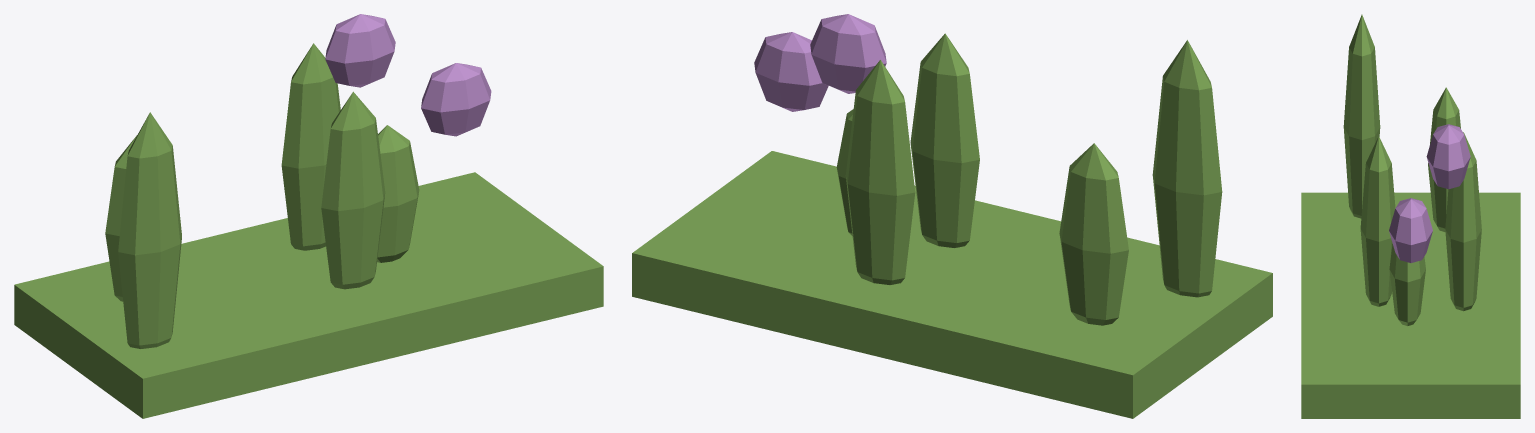
File: GG-VEG-GROUND-COVER-CREEPING-001_LOD_MAP.glb
3 views of the same model, side by side, from view 1: azimuth 30°, elevation 25°; view 2: azimuth 150°, elevation 25°; view 3: azimuth 270°, elevation 25° (orthographic). The views are drawn at different scales.
Parts seen in each view (by area): view 1: GG_VEG_MOD_BASE_001, GG_VEG_MODULE_4, GG_VEG_MODULE_5, GG_VEG_MODULE_2, GG_VEG_MODULE_1, GG_VEG_ACCENT_2, GG_VEG_ACCENT_1, GG_VEG_MODULE_3; view 2: GG_VEG_MOD_BASE_001, GG_VEG_MODULE_4, GG_VEG_MODULE_2, GG_VEG_MODULE_5, GG_VEG_MODULE_3, GG_VEG_ACCENT_2, GG_VEG_ACCENT_1, GG_VEG_MODULE_1; view 3: GG_VEG_MOD_BASE_001, GG_VEG_MODULE_4, GG_VEG_MODULE_5, GG_VEG_MODULE_2, GG_VEG_ACCENT_1, GG_VEG_ACCENT_2, GG_VEG_MODULE_1, GG_VEG_MODULE_3.
Boxes of the visible parts, bbox=[...] form: GG_VEG_MOD_BASE_001: bbox=[14, 172, 603, 418]; GG_VEG_MODULE_4: bbox=[118, 112, 181, 348]; GG_VEG_MODULE_5: bbox=[321, 91, 385, 289]; GG_VEG_MODULE_2: bbox=[281, 43, 340, 250]; GG_VEG_MODULE_1: bbox=[377, 125, 419, 262]; GG_VEG_ACCENT_2: bbox=[325, 14, 395, 87]; GG_VEG_ACCENT_1: bbox=[421, 63, 491, 136]; GG_VEG_MODULE_3: bbox=[105, 135, 137, 301]; GG_VEG_MOD_BASE_001: bbox=[632, 151, 1272, 418]; GG_VEG_MODULE_4: bbox=[1152, 40, 1222, 297]; GG_VEG_MODULE_2: bbox=[845, 60, 915, 284]; GG_VEG_MODULE_5: bbox=[910, 33, 979, 247]; GG_VEG_MODULE_3: bbox=[1059, 143, 1128, 325]; GG_VEG_ACCENT_2: bbox=[810, 14, 886, 93]; GG_VEG_ACCENT_1: bbox=[754, 32, 828, 111]; GG_VEG_MODULE_1: bbox=[836, 109, 853, 235]; GG_VEG_MOD_BASE_001: bbox=[1301, 192, 1520, 418]; GG_VEG_MODULE_4: bbox=[1343, 14, 1380, 218]; GG_VEG_MODULE_5: bbox=[1360, 136, 1395, 306]; GG_VEG_MODULE_2: bbox=[1445, 132, 1481, 311]; GG_VEG_ACCENT_1: bbox=[1389, 198, 1432, 262]; GG_VEG_ACCENT_2: bbox=[1426, 124, 1470, 189]; GG_VEG_MODULE_1: bbox=[1389, 244, 1425, 325]; GG_VEG_MODULE_3: bbox=[1428, 87, 1460, 232].
Bounding box in the file's own units: 0.72 × 0.4037 × 0.348.
